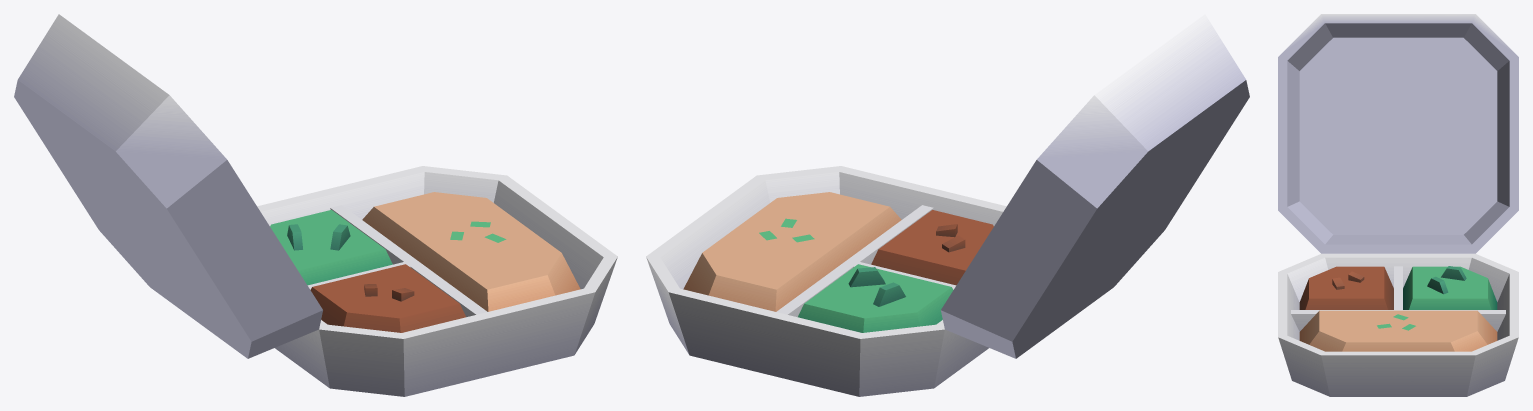
File: TakeawayClamshell.obj
The picture shows the model from 3 angles, left to right: view 1: azimuth 30°, elevation 25°; view 2: azimuth 150°, elevation 25°; view 3: azimuth 270°, elevation 25°; orthographic projection. The views are drawn at different scales.
Visible parts, largest first — view 1: lid, styrofoam_dinner, Group_1, Group, Group_2; view 2: lid, styrofoam_dinner, Group_1, Group_2, Group; view 3: lid, styrofoam_dinner, Group_1, Group, Group_2.
Part boxes in pixels (x1=…): lid: x1=14, y1=14, x2=322, y2=358; styrofoam_dinner: x1=257, y1=166, x2=617, y2=396; Group_1: x1=362, y1=192, x2=580, y2=311; Group: x1=310, y1=264, x2=465, y2=332; Group_2: x1=270, y1=210, x2=392, y2=285; lid: x1=941, y1=14, x2=1249, y2=358; styrofoam_dinner: x1=646, y1=166, x2=1006, y2=396; Group_1: x1=683, y1=192, x2=901, y2=311; Group_2: x1=798, y1=264, x2=953, y2=332; Group: x1=871, y1=210, x2=993, y2=285; lid: x1=1278, y1=14, x2=1518, y2=253; styrofoam_dinner: x1=1278, y1=253, x2=1518, y2=396; Group_1: x1=1299, y1=310, x2=1497, y2=351; Group: x1=1299, y1=266, x2=1393, y2=309; Group_2: x1=1403, y1=266, x2=1497, y2=309.
Size of the model in its own units: 0.4407 by 0.2877 by 0.2656.
Materials: 1 (1 with a texture image).
